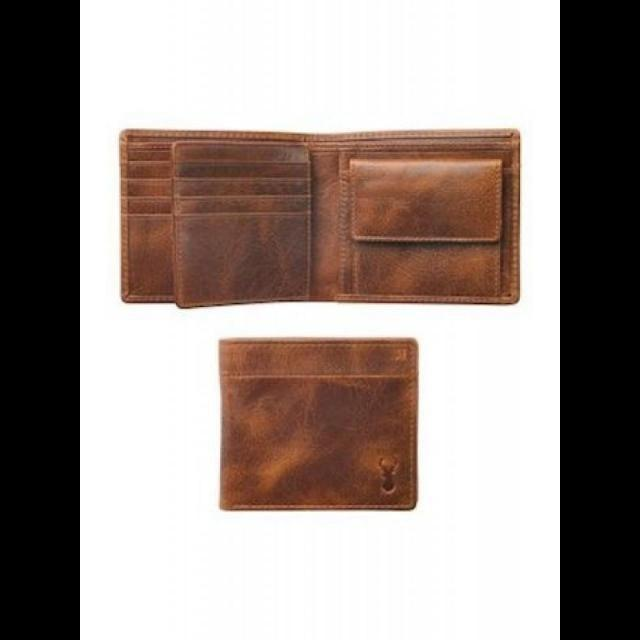Wallet: (111, 120, 534, 316), (208, 330, 432, 522)
